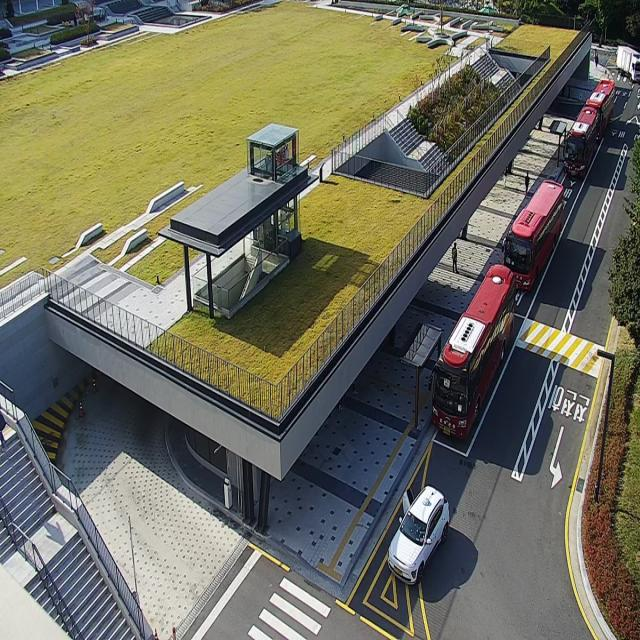queue: (416, 332, 442, 433)
